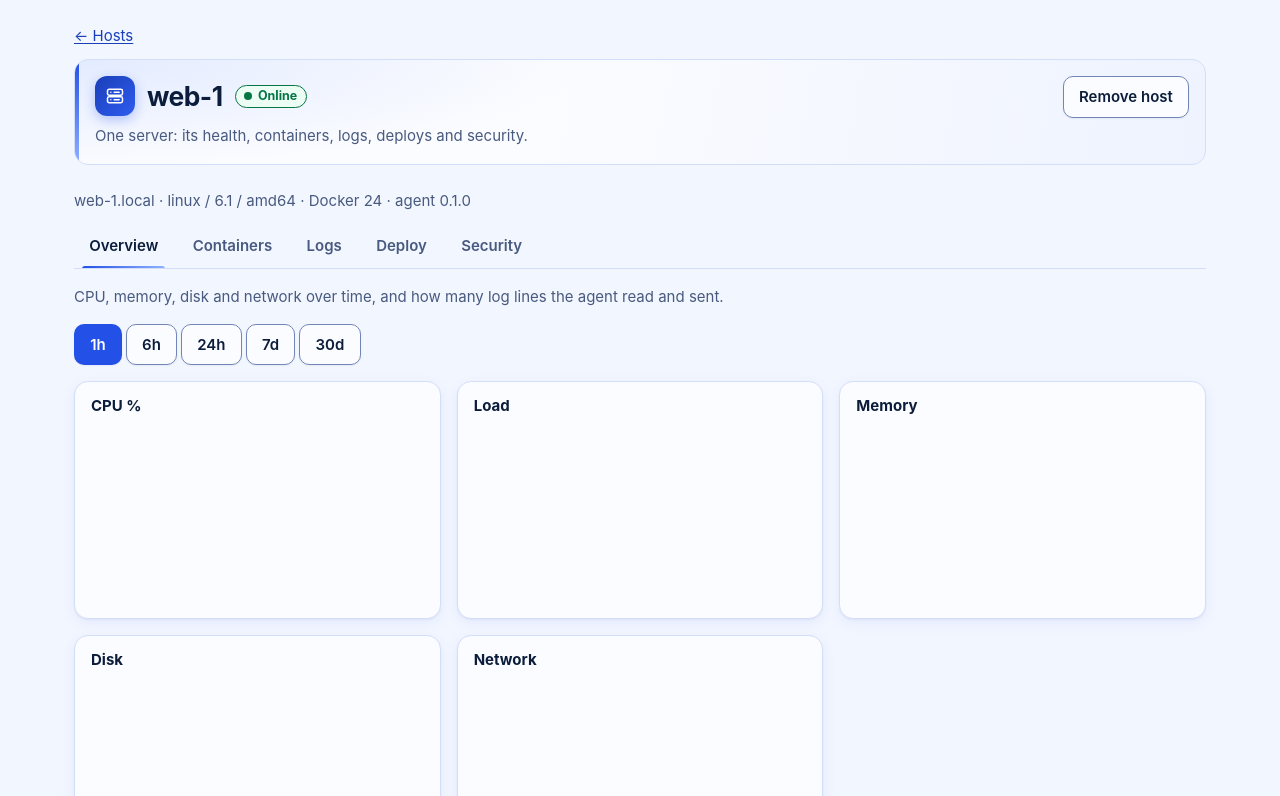
Test: HostPage › ignores a stale metrics response after a newer range load
The width and height of the screenshot is (1280, 796).
Check: the heading "web-1" is shown, box [147,80,222,113]
Click the button "6h". click: (152, 345)
box: [126,324,177,365]
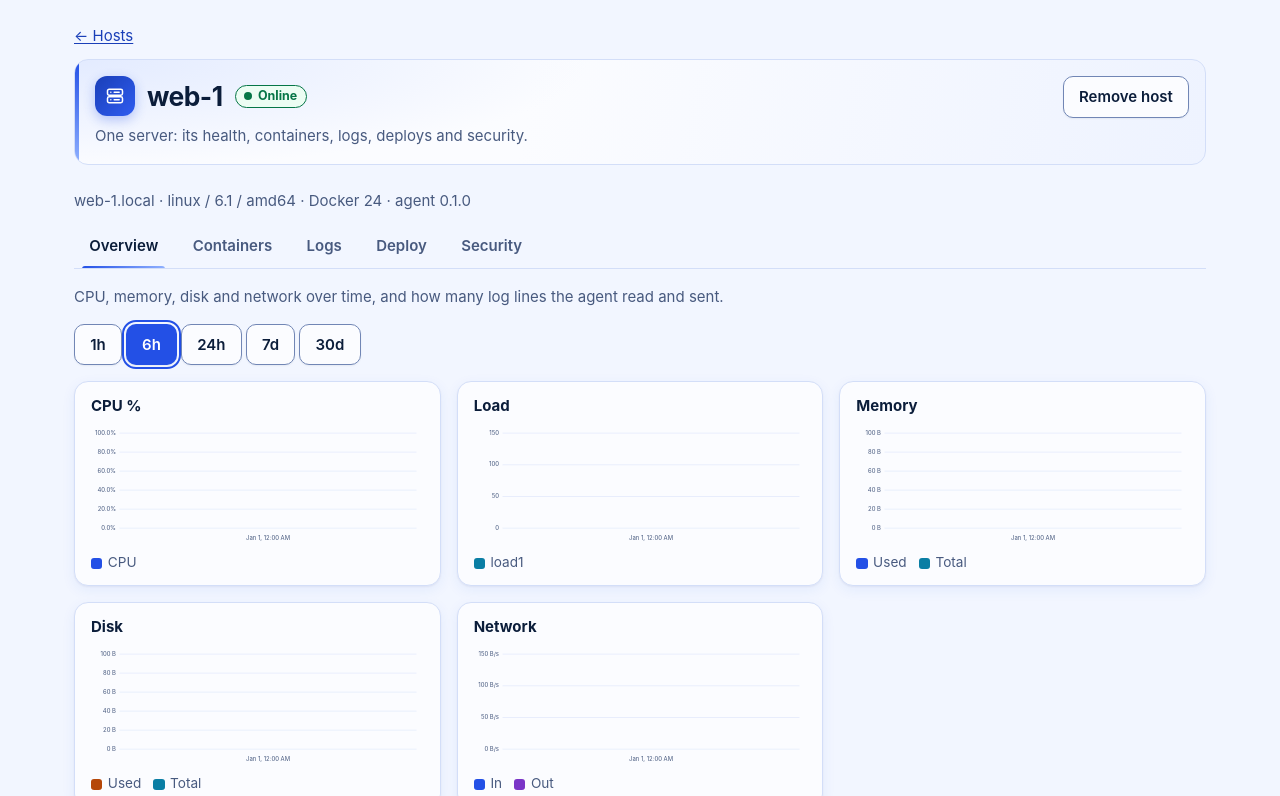
Check: the picture named "CPU %: 1 points, last value 99" is shown, box [91,426,424,544]
